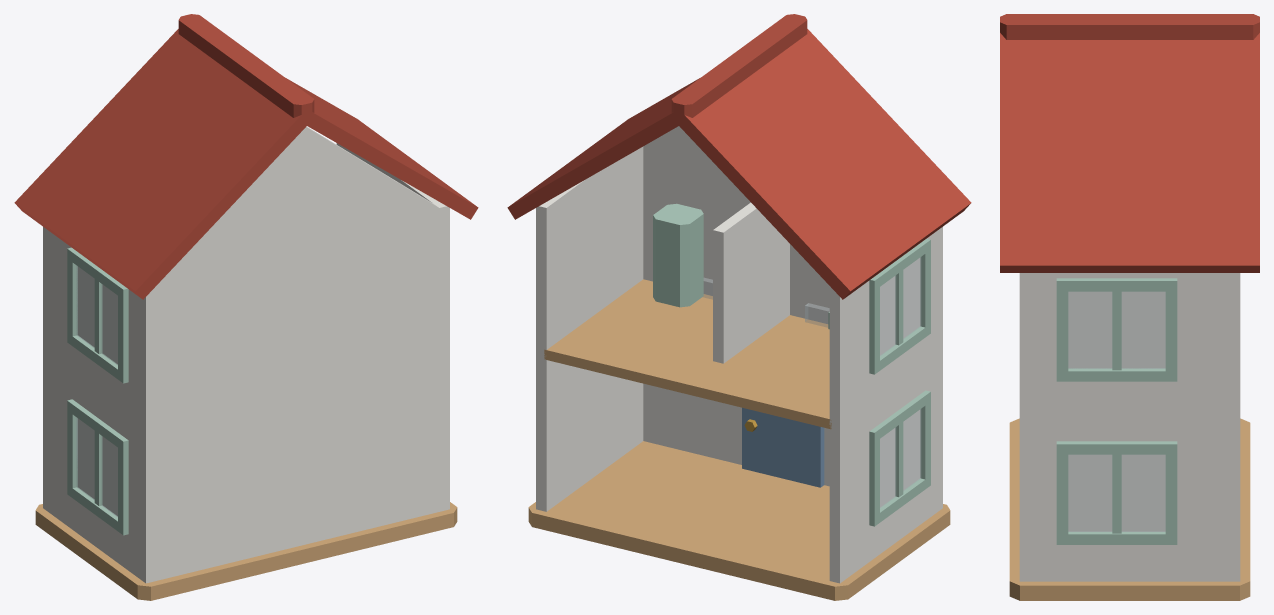
The model's file is SM_LPI_Kids_DollHouse_01.fbx.
The picture shows the model from 3 angles, left to right: view 1: azimuth 30°, elevation 25°; view 2: azimuth 150°, elevation 25°; view 3: azimuth 270°, elevation 25°; orthographic projection. The views are drawn at different scales.
Visible parts, largest first — view 1: SM_LPI_Kids_DollHouse_01; view 2: SM_LPI_Kids_DollHouse_01; view 3: SM_LPI_Kids_DollHouse_01.
Part boxes in pixels (x1,y1,x2,y2): SM_LPI_Kids_DollHouse_01: (14, 14, 478, 600); SM_LPI_Kids_DollHouse_01: (507, 14, 971, 600); SM_LPI_Kids_DollHouse_01: (1000, 14, 1259, 600).
Bounding box in the file's own units: 0.6548 × 0.845 × 0.4.
